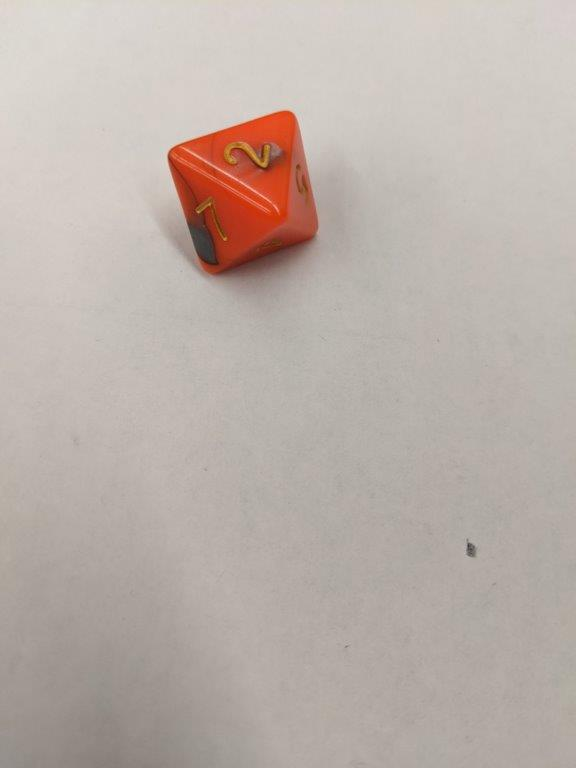d8-2: (165, 109, 322, 277)
